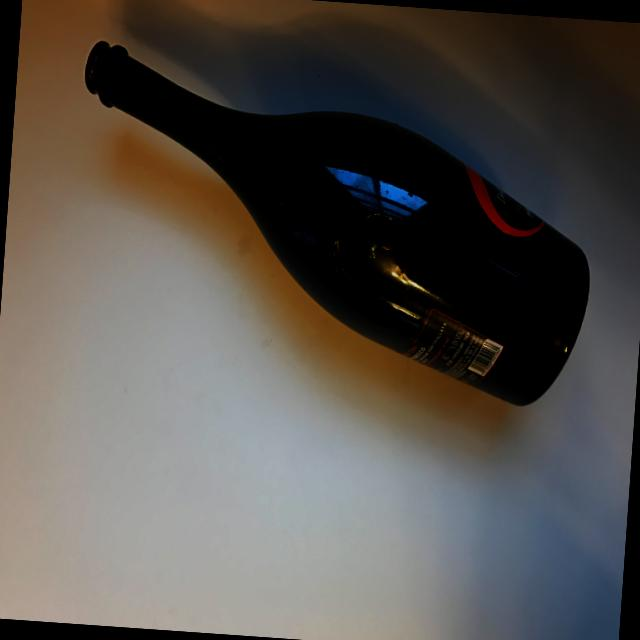Glass: (49, 36, 606, 416)
